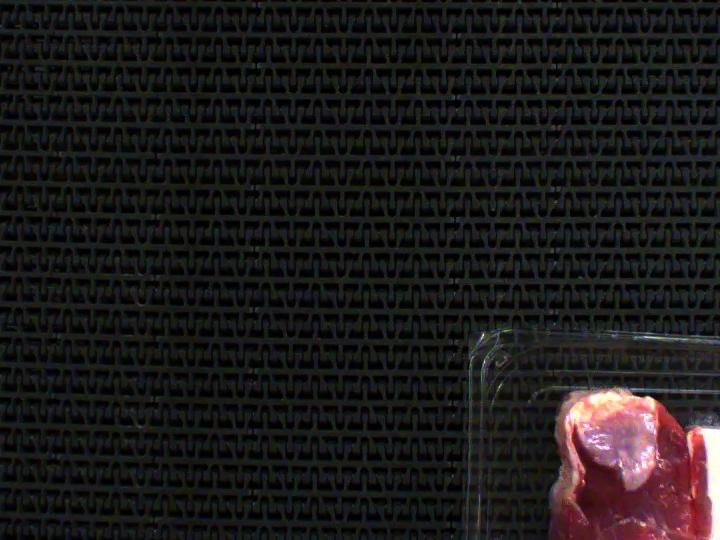packaging-error: (687, 404, 720, 431)
